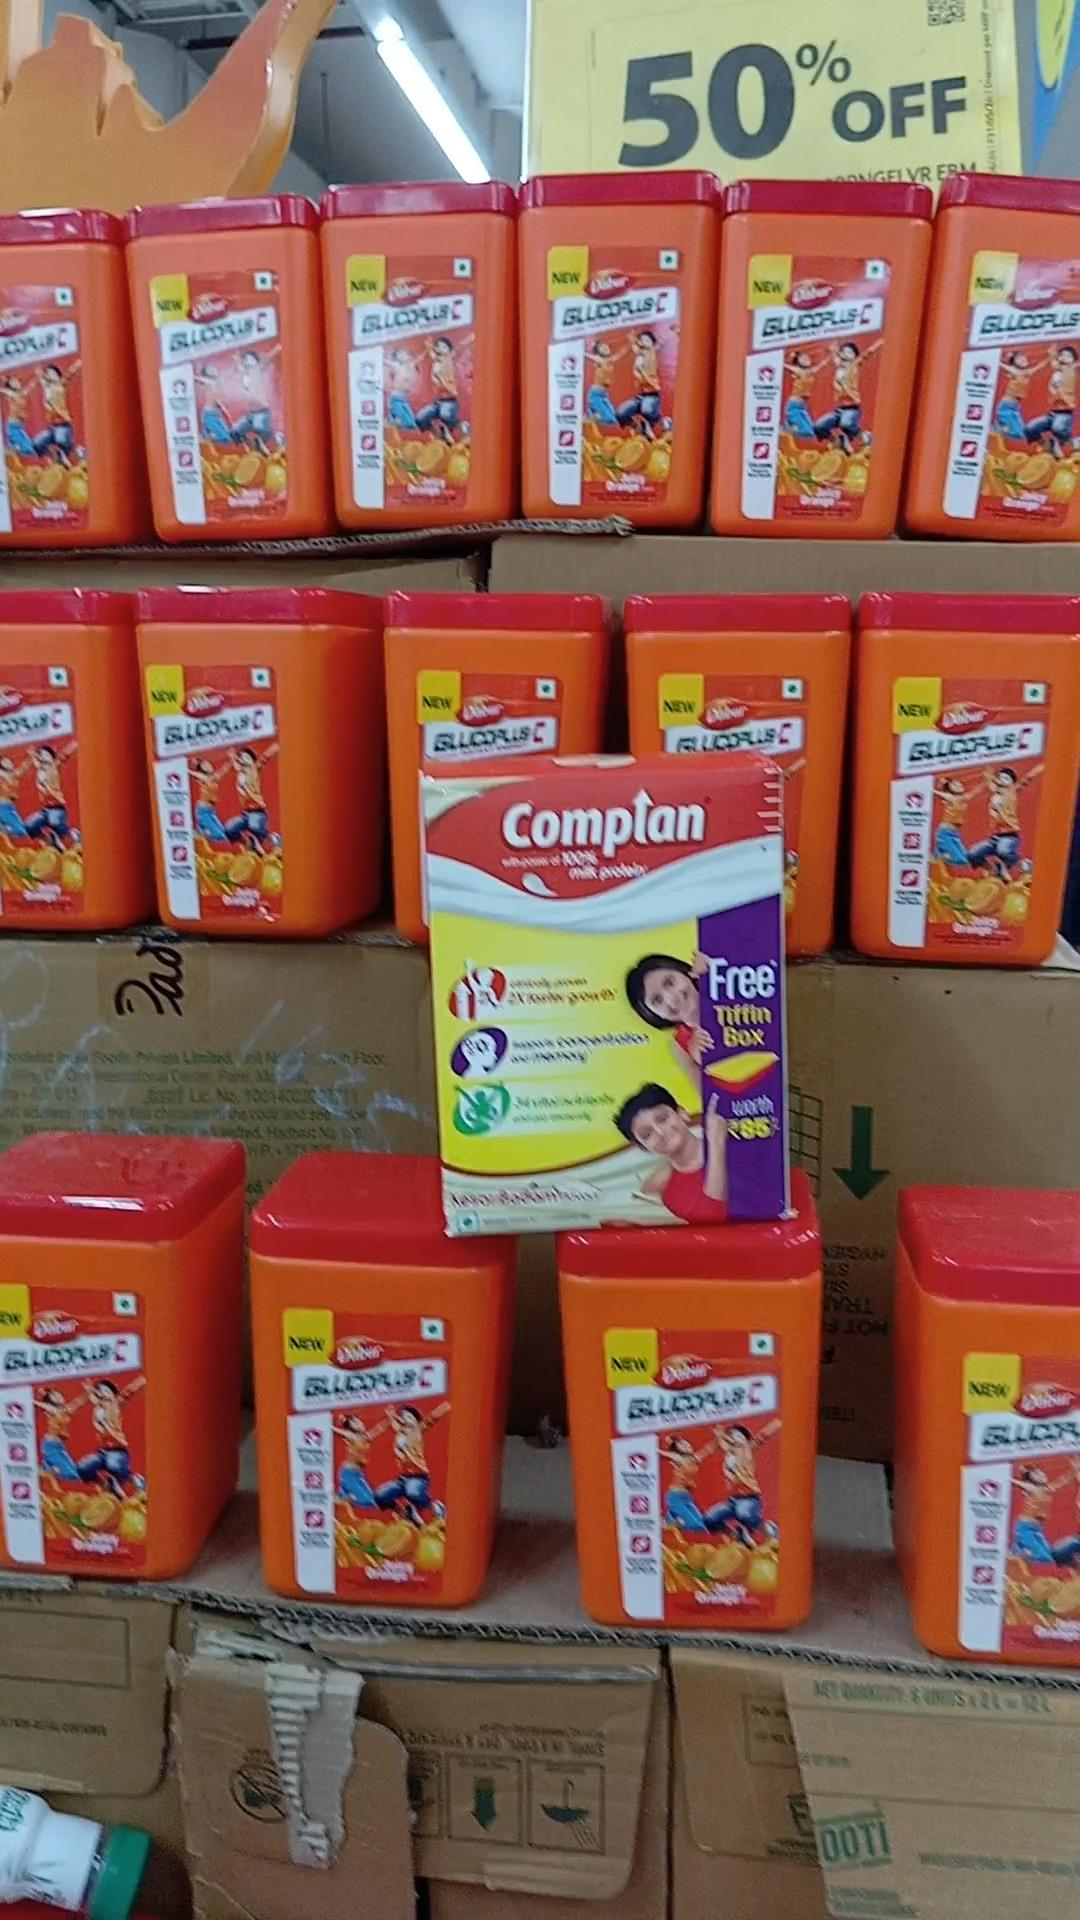COMPLAN_KESAR_BADAM_500_GMS_PACK: (426, 774, 783, 1234)
